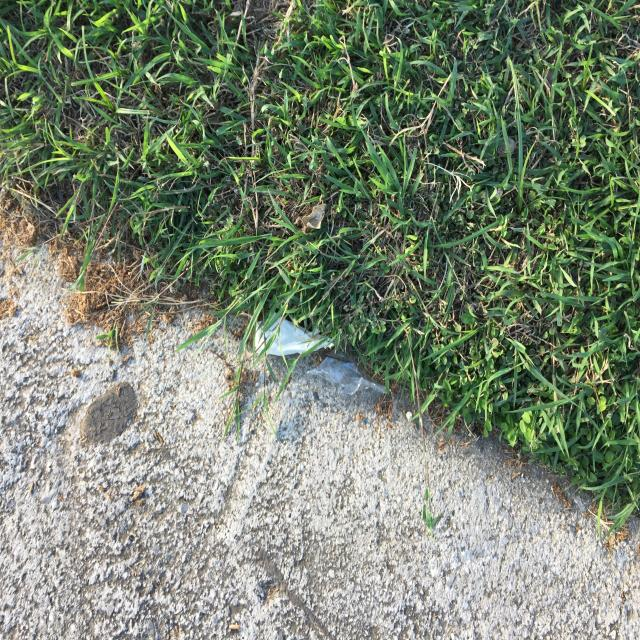litter: (305, 347, 391, 395), (252, 307, 332, 355)
